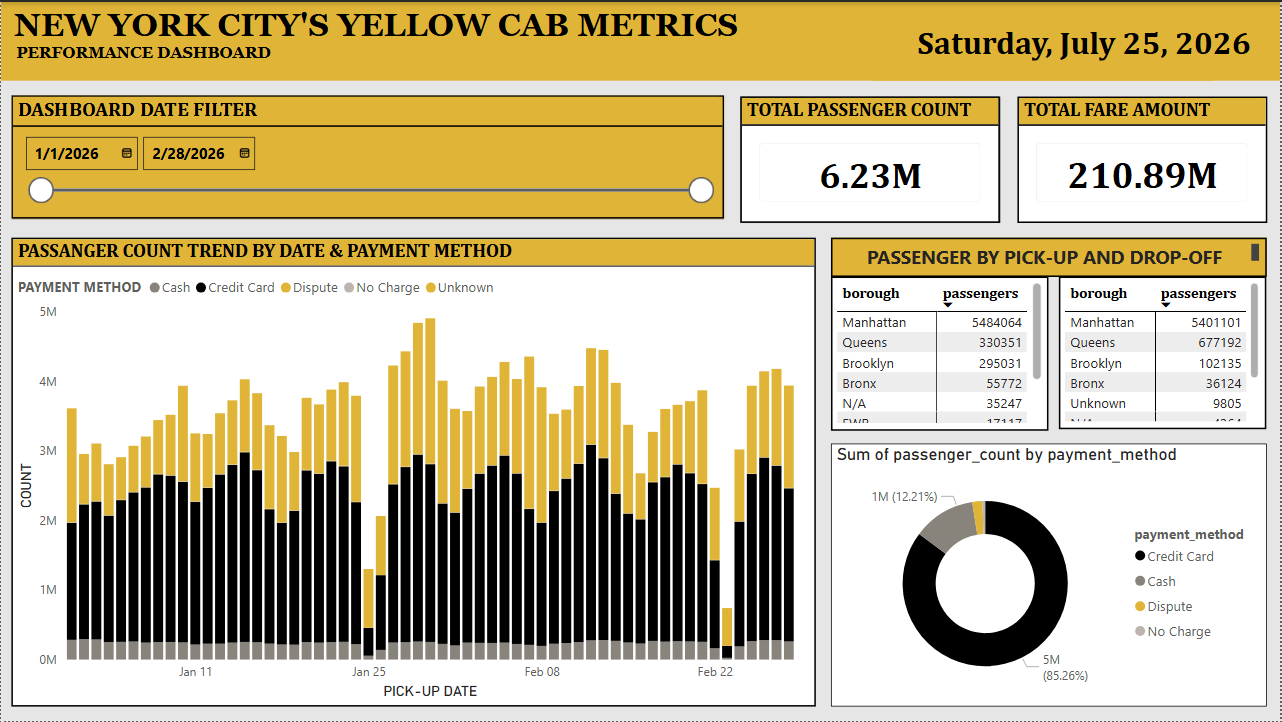

The page's visual inventory and layout, read from the dashboard file:
{"tool":"powerbi","page":{"name":"Page 1","canvas":[1280,720],"ordinal":0},"visuals":[{"type":"slicer","title":"DASHBOARD DATE FILTER","fields":{"Values":["yellow_nyctaxi_goldtbl.tpep_pickup_datetime"]},"box":[10.2,93,713.7,123.6],"z":0},{"type":"columnChart","title":"PASSANGER COUNT TREND BY DATE & PAYMENT METHOD","fields":{"Y":["Sum(yellow_nyctaxi_goldtbl.total_amount)"],"Category":["yellow_nyctaxi_goldtbl.tpep_pickup_datetime"],"Series":["yellow_nyctaxi_goldtbl.payment_method"]},"box":[10.2,235.5,805.3,469.5],"z":1000},{"type":"donutChart","fields":{"Category":["yellow_nyctaxi_goldtbl.payment_method"],"Y":["Sum(yellow_nyctaxi_goldtbl.passenger_count)"]},"box":[831.5,441.9,436.1,263.1],"z":2000},{"type":"cardVisual","title":"TOTAL PASSENGER COUNT","fields":{"Data":["Sum(yellow_nyctaxi_goldtbl.passenger_count)"]},"box":[739.9,94.5,260.2,126.5],"z":3000},{"type":"pivotTable","fields":{"Rows":["yellow_nyctaxi_goldtbl.do_borough"],"Values":["Sum(yellow_nyctaxi_goldtbl.passenger_count)"]},"box":[831.5,274.7,218,154.1],"z":4000},{"type":"pivotTable","fields":{"Rows":["yellow_nyctaxi_goldtbl.pu_borough"],"Values":["Sum(yellow_nyctaxi_goldtbl.passenger_count)"]},"box":[1059.7,274.7,207.9,152.6],"z":5000},{"type":"textbox","box":[0,0,1213.8,78.5],"z":6000},{"type":"textbox","box":[831.5,235.5,436.1,39.2],"z":7000},{"type":"cardVisual","title":"TOTAL FARE AMOUNT","fields":{"Data":["Sum(yellow_nyctaxi_goldtbl.total_amount)"]},"box":[1017.5,94.5,250,126.5],"z":8000},{"type":"cardVisual","fields":{"Data":["yellow_nyctaxi_goldtbl.datetime"]},"box":[870.7,0,409.9,78.5],"z":8001}]}

Visuals, with their boxes in screenshot pixels (x1, y1, x2, y2), scaled from the page's 1280x720 canvas onto the 1282x722 screenshot:
"DASHBOARD DATE FILTER" slicer: pyautogui.locateOnScreen(10, 93, 725, 217)
"PASSANGER COUNT TREND BY DATE & PAYMENT METHOD" columnChart: pyautogui.locateOnScreen(10, 236, 817, 707)
donutChart - yellow_nyctaxi_goldtbl.payment_method x Sum(yellow_nyctaxi_goldtbl.passenger_count): pyautogui.locateOnScreen(833, 443, 1270, 707)
"TOTAL PASSENGER COUNT" cardVisual: pyautogui.locateOnScreen(741, 95, 1002, 222)
pivotTable - yellow_nyctaxi_goldtbl.do_borough x Sum(yellow_nyctaxi_goldtbl.passenger_count): pyautogui.locateOnScreen(833, 275, 1051, 430)
pivotTable - yellow_nyctaxi_goldtbl.pu_borough x Sum(yellow_nyctaxi_goldtbl.passenger_count): pyautogui.locateOnScreen(1061, 275, 1270, 428)
textbox: pyautogui.locateOnScreen(0, 0, 1216, 79)
textbox: pyautogui.locateOnScreen(833, 236, 1270, 275)
"TOTAL FARE AMOUNT" cardVisual: pyautogui.locateOnScreen(1019, 95, 1269, 222)
cardVisual - yellow_nyctaxi_goldtbl.datetime: pyautogui.locateOnScreen(872, 0, 1281, 79)
